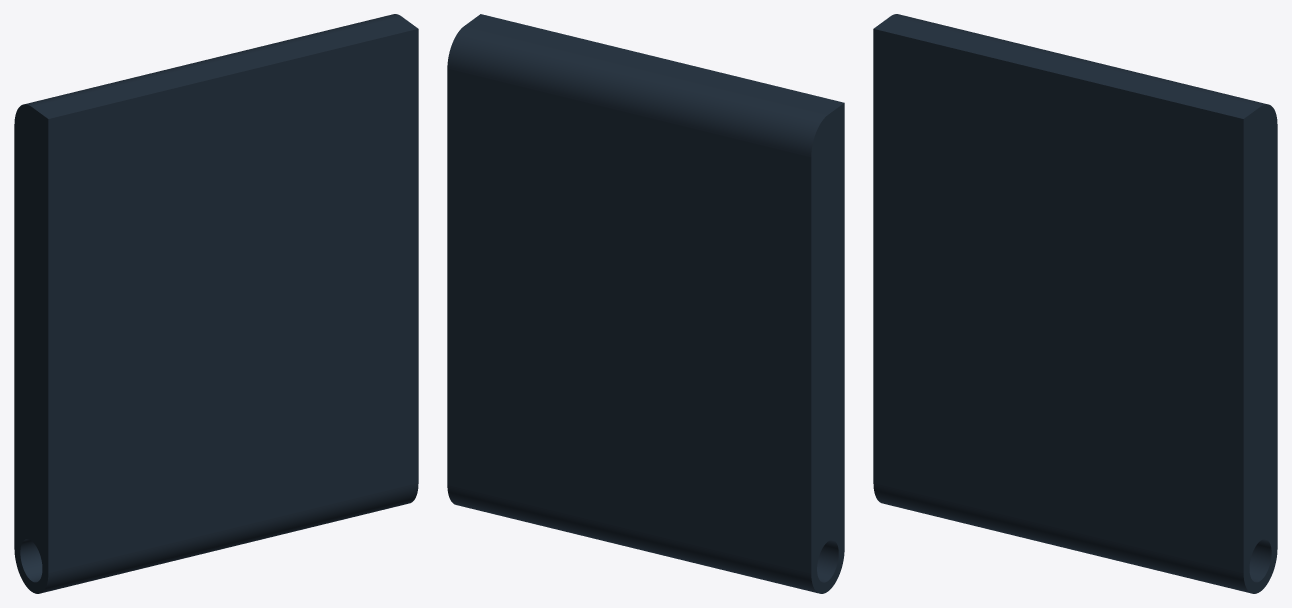
File: door.dae
The picture shows the model from 3 angles, left to right: view 1: azimuth 30°, elevation 25°; view 2: azimuth 150°, elevation 25°; view 3: azimuth 330°, elevation 25°; orthographic projection.
Parts seen in each view (by area): view 1: ID2; view 2: ID2; view 3: ID2.
Boxes of the visible parts, x1=… form: ID2: x1=14, y1=14, x2=418, y2=593; ID2: x1=447, y1=14, x2=844, y2=593; ID2: x1=873, y1=14, x2=1277, y2=593.
Bounding box in the file's own units: 0.29 × 0.046 × 0.363.
